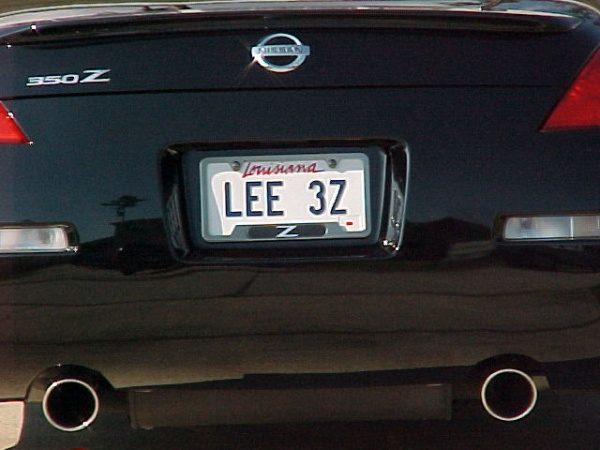licence: (190, 149, 380, 240)
